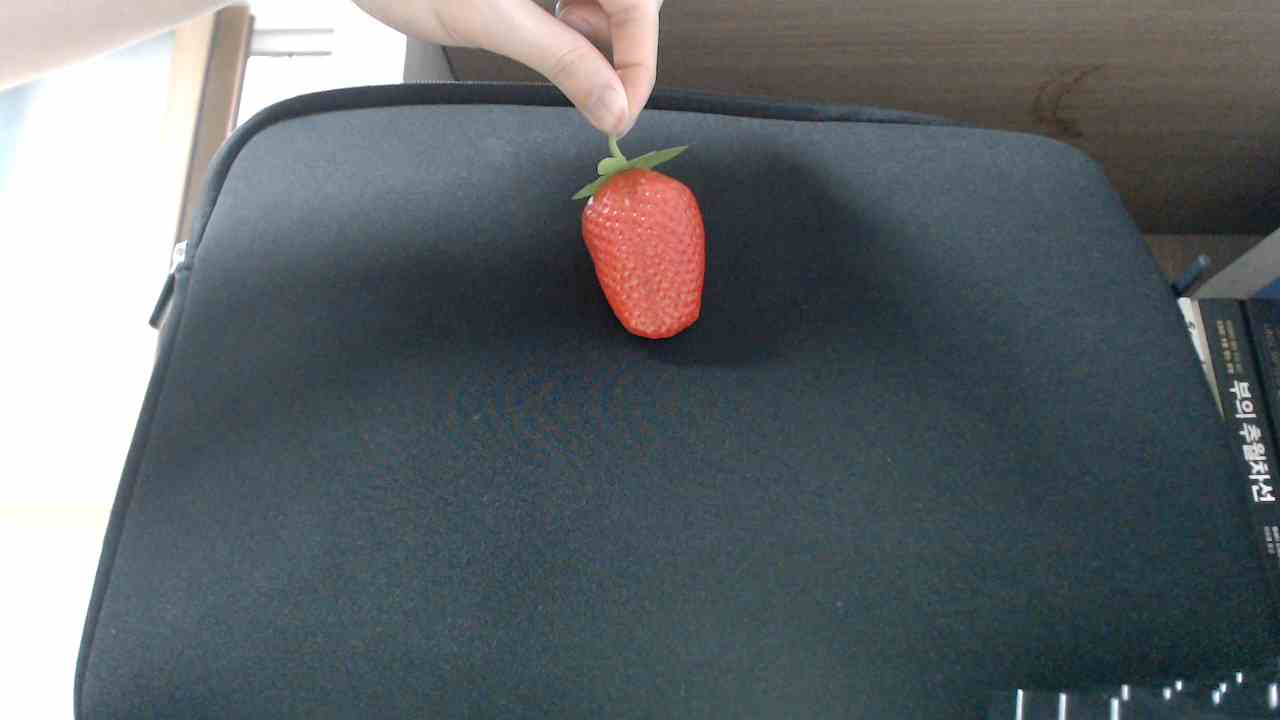strawberry: (574, 153, 716, 349)
